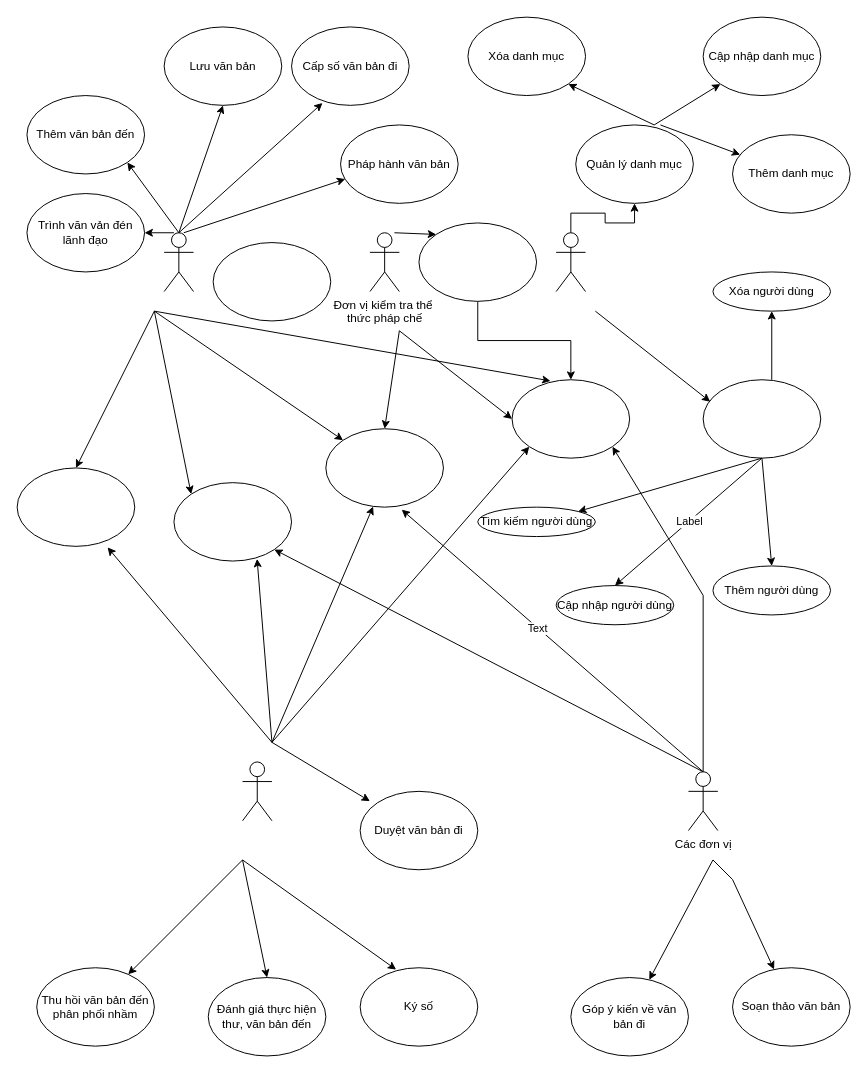
This 867x1073 diagram has some shape labels left out. Each missing label, with the box of its shape:
Kiểm tra kiến thức pháp chế văn bản đi(UC-12): (418, 222, 537, 301)
Lãnh đạo: (242, 761, 272, 821)
Phân phối văn bản đến cho cá đơn vị liên quan: (16, 467, 135, 546)
Quản lý người dùng: (702, 379, 821, 458)
Quản lý tài khoản: (173, 482, 292, 561)
Tiếp nhận văn bản đi(UC-19): (212, 242, 331, 321)
Trung Tâm CNTT: (555, 232, 586, 292)
Trò chuyện: (325, 428, 443, 507)
Văn Thư: (163, 232, 194, 292)
Đăng nhập: (511, 379, 630, 458)
